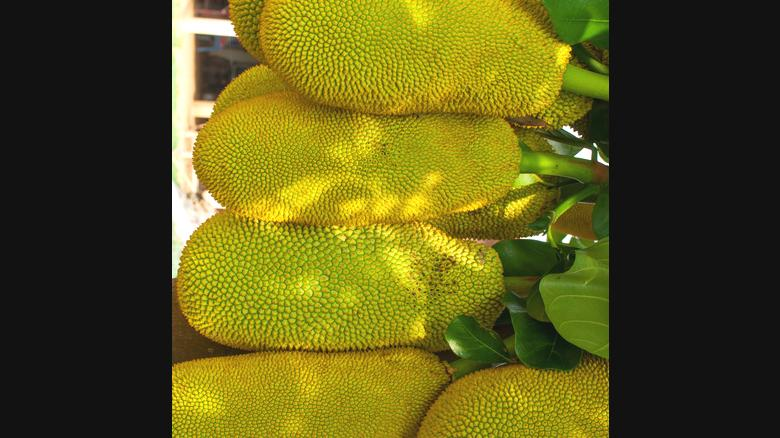mit: (178, 216, 506, 350), (193, 99, 524, 222), (255, 0, 571, 123)
